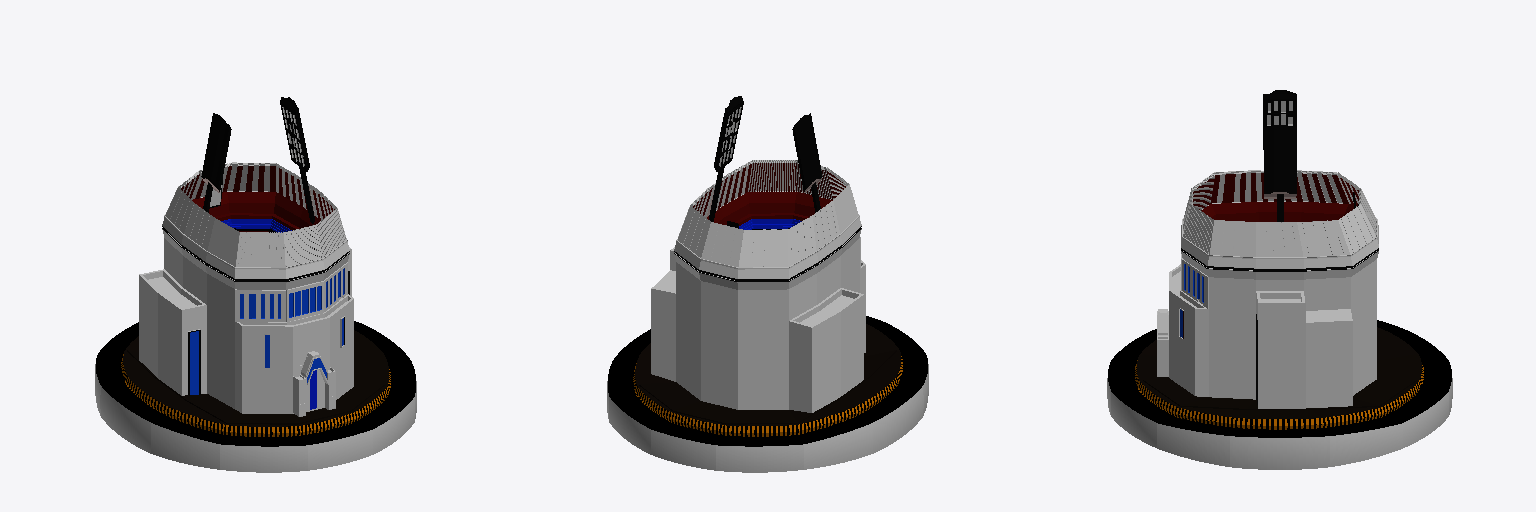
File: stadium.obj
The picture shows the model from 3 angles: view 1: azimuth 30°, elevation 25°; view 2: azimuth 150°, elevation 25°; view 3: azimuth 270°, elevation 25°; orthographic projection.
Visible parts, largest first — view 1: Cube; view 2: Cube; view 3: Cube.
Boxes of the visible parts, <box> form: Cube: <box>95,97,416,472</box>; Cube: <box>607,96,928,472</box>; Cube: <box>1107,90,1452,469</box>.
Size of the model in its own units: 0.9514 by 1 by 1.05.